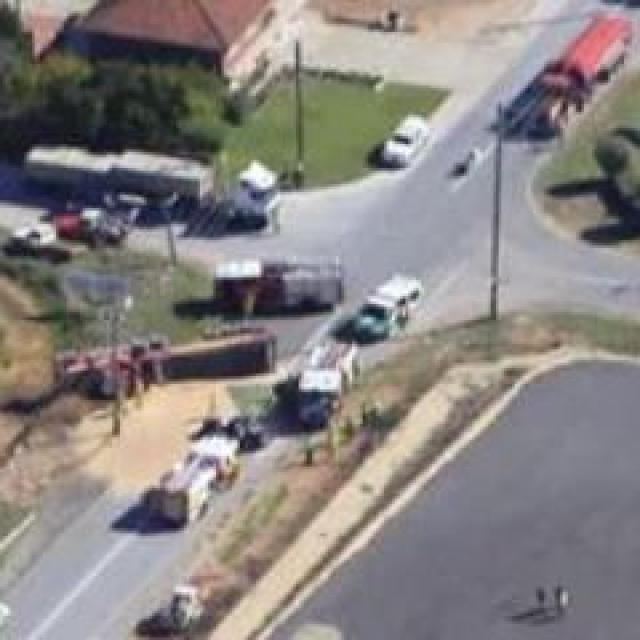traffic_incident: (45, 312, 278, 403)
